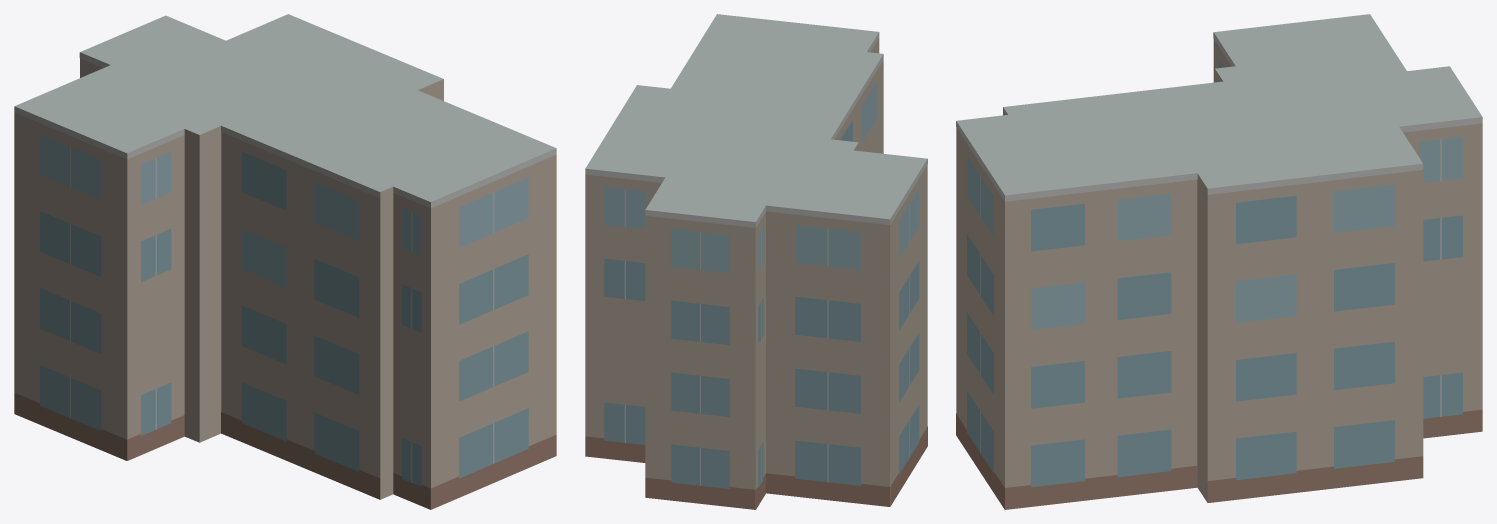
File: residential-62ab1ec9-2db4-41a7-a3f1-4aa85aa693eb.glb
3 renders of one model, left to right at view 1: azimuth 30°, elevation 25°; view 2: azimuth 150°, elevation 25°; view 3: azimuth 270°, elevation 25°, orthographic. The views are drawn at different scales.
Parts seen in each view (by area): view 1: residential-62ab1ec9-2db4-41a7-a3f1-4aa85aa693eb.tmp; view 2: residential-62ab1ec9-2db4-41a7-a3f1-4aa85aa693eb.tmp; view 3: residential-62ab1ec9-2db4-41a7-a3f1-4aa85aa693eb.tmp.
Part boxes in pixels (box(x1,y1,x2,y2)): residential-62ab1ec9-2db4-41a7-a3f1-4aa85aa693eb.tmp: box(14, 14, 556, 509); residential-62ab1ec9-2db4-41a7-a3f1-4aa85aa693eb.tmp: box(585, 14, 927, 509); residential-62ab1ec9-2db4-41a7-a3f1-4aa85aa693eb.tmp: box(956, 14, 1482, 509).
Size of the model in its own units: 15.1 by 12.2 by 18.52.
